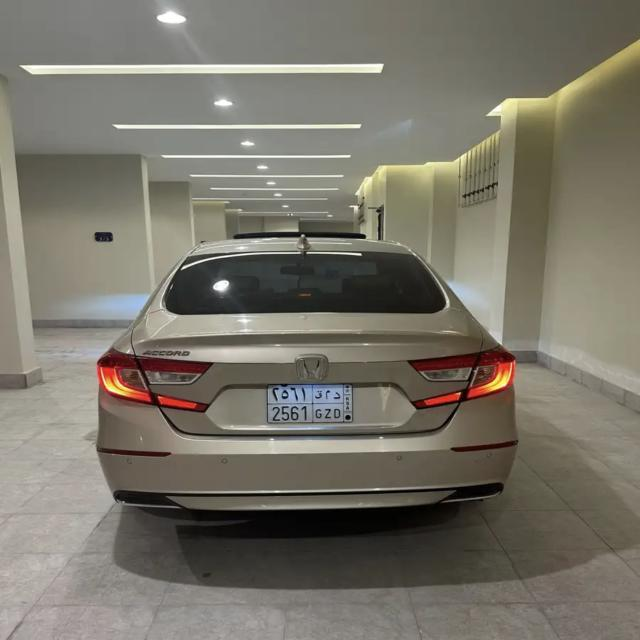license_plate: (266, 384, 356, 424)
